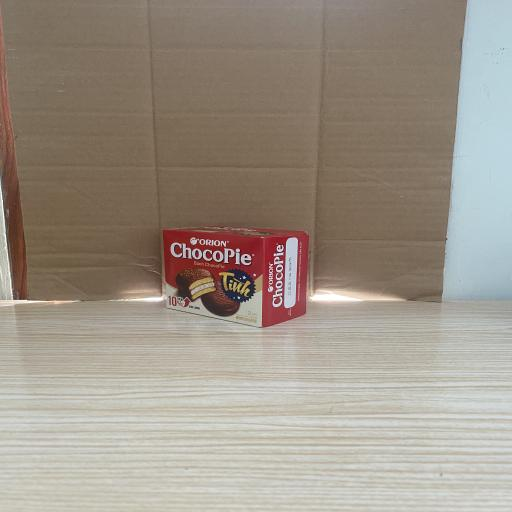chocopie: (163, 226, 309, 328)
